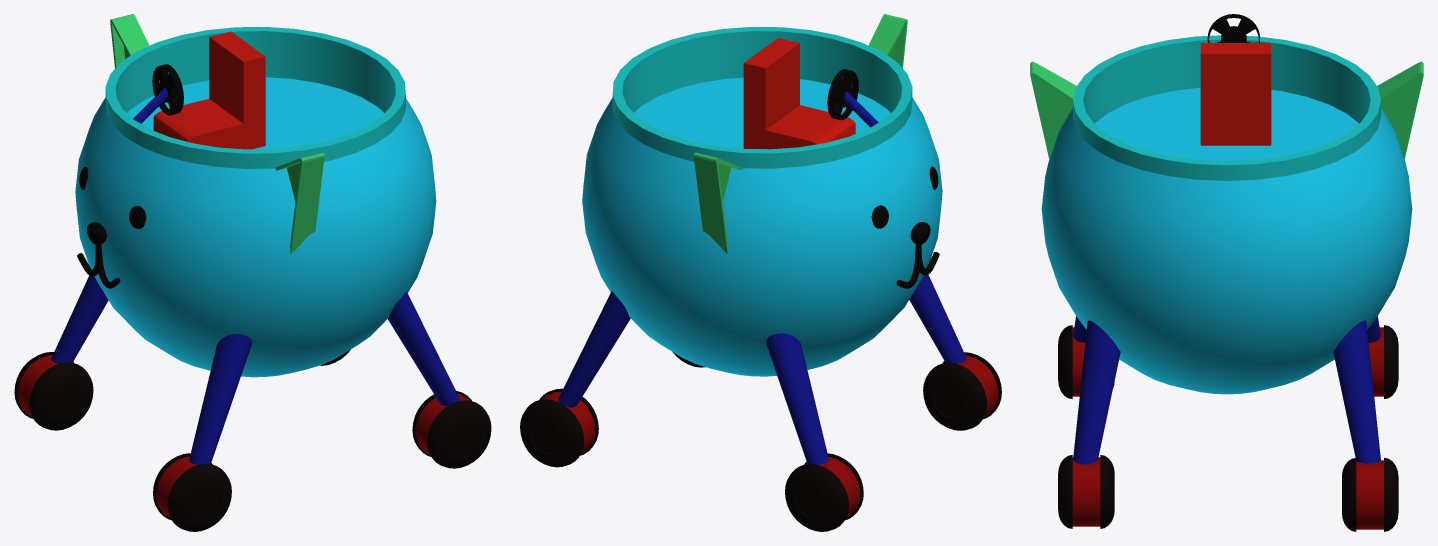
File: Poessie cat car.glb
The picture shows the model from 3 angles, left to right: view 1: azimuth 30°, elevation 25°; view 2: azimuth 150°, elevation 25°; view 3: azimuth 270°, elevation 25°; orthographic projection. The views are drawn at different scales.
Visible parts, largest first — view 1: Cat car base, Bottom poeesie cat car, Chair, Right front wheel, Left front wheel, Left back wheel, Pointy ear, Stearing wheel, Pessie cat mouth; view 2: Cat car base, Bottom poeesie cat car, Chair, Left front wheel, Right front wheel, Right Back wheel, Pointy ear, Stearing wheel, Pessie cat mouth; view 3: Cat car base, Bottom poeesie cat car, Chair, Pointy ear, Right Back wheel, Left back wheel, Right front wheel, Left front wheel, Stearing wheel.
Part boxes in pixels (box(x1,y1,x2,y2)): Cat car base: box(75, 27, 436, 377); Bottom poeesie cat car: box(51, 275, 460, 464); Chair: box(153, 31, 265, 149); Right front wheel: box(14, 352, 93, 430); Left front wheel: box(153, 453, 231, 531); Left back wheel: box(412, 390, 491, 468); Pointy ear: box(110, 14, 324, 254); Stearing wheel: box(152, 64, 183, 115); Pessie cat mouth: box(77, 244, 120, 288); Cat car base: box(582, 26, 942, 376); Bottom poeesie cat car: box(558, 274, 966, 464); Chair: box(743, 38, 855, 149); Left front wheel: box(923, 352, 1001, 430); Right front wheel: box(785, 453, 863, 531); Right Back wheel: box(520, 388, 598, 467); Pointy ear: box(693, 14, 907, 253); Stearing wheel: box(827, 69, 858, 120); Pessie cat mouth: box(896, 244, 939, 288); Cat car base: box(1041, 35, 1412, 394); Bottom poeesie cat car: box(1073, 316, 1380, 464); Chair: box(1200, 43, 1271, 145); Pointy ear: box(1030, 61, 1423, 158); Right Back wheel: box(1342, 457, 1398, 531); Left back wheel: box(1058, 455, 1114, 528); Right front wheel: box(1368, 325, 1398, 398); Left front wheel: box(1058, 325, 1114, 398); Stearing wheel: box(1207, 14, 1259, 42).
Size of the model in its own units: 2.11 by 2.42 by 2.12.
1 material, 1 textured.
